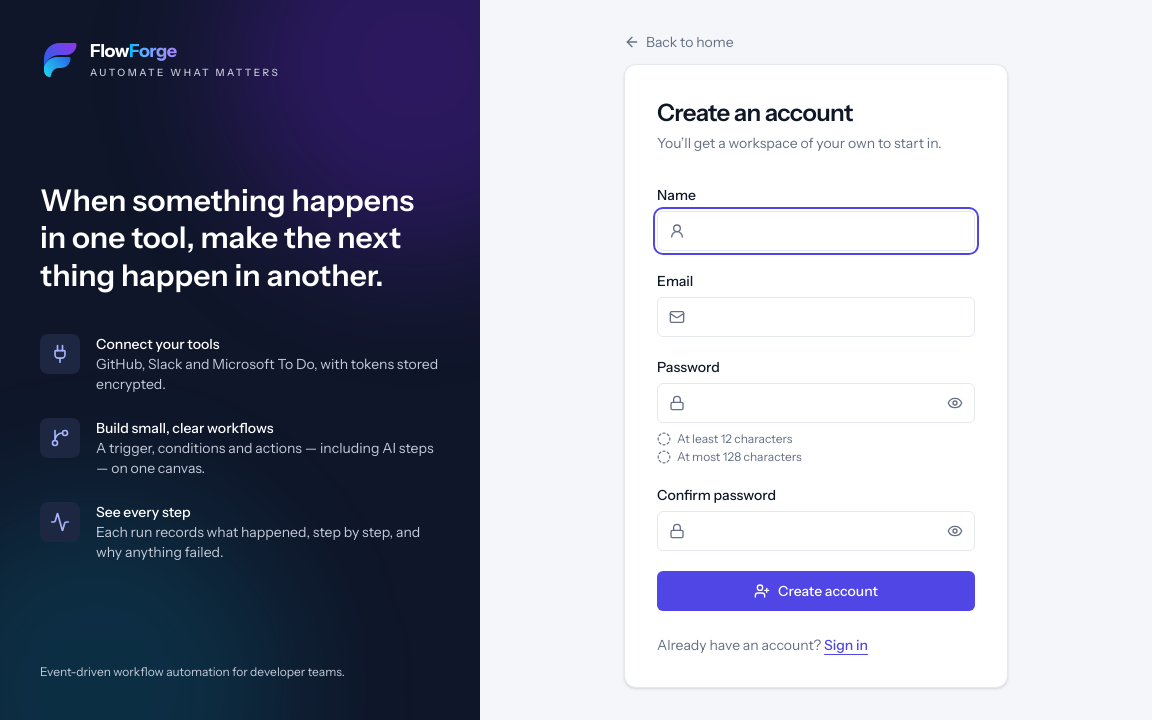
robust sign-in and registration (Part 12) › register: the checklist updates as you type, and the confirmation must match
In the password field labelled "Password": coordinates (816, 403) x1=657 y1=383 x2=975 y2=423, type "correct horse battery"
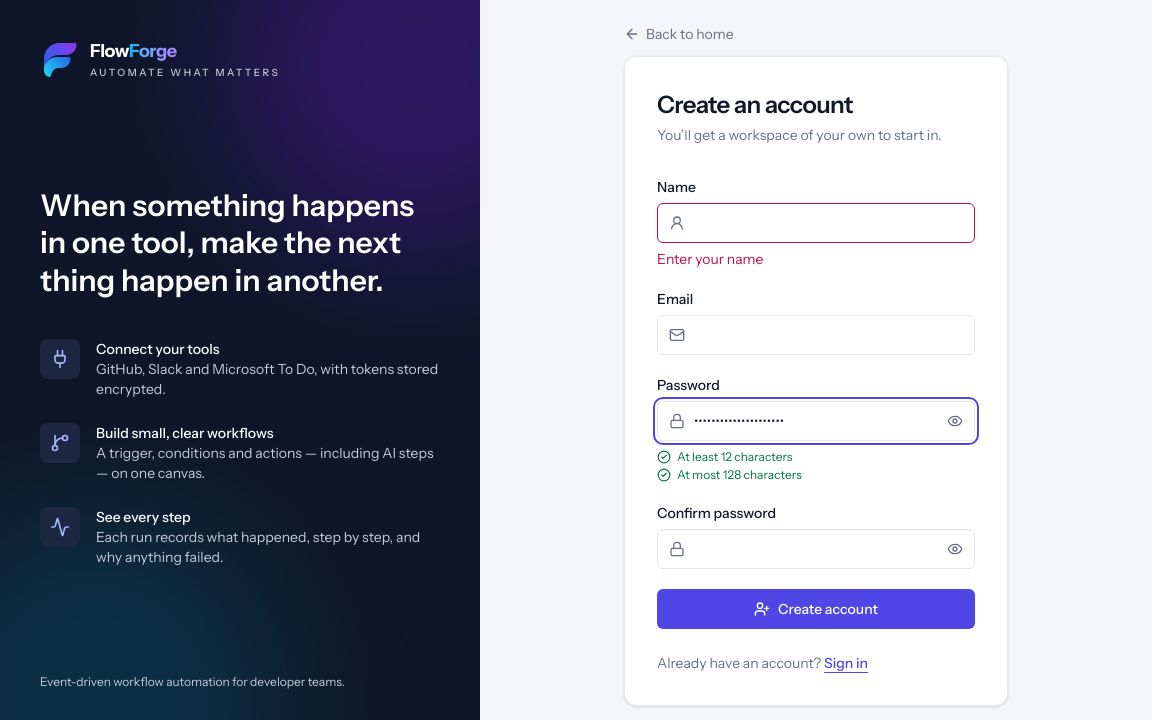
In the field labelled "Name": coordinates (816, 223) x1=657 y1=203 x2=975 y2=243, type "Ada"
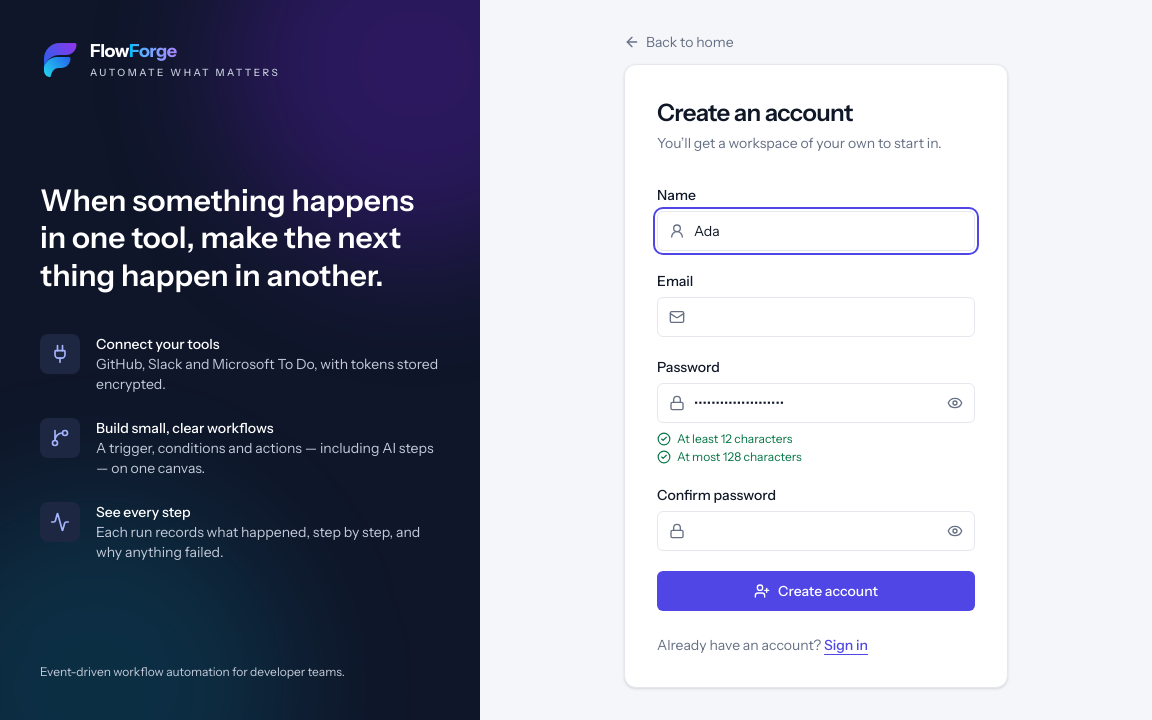
In the field labelled "Email": coordinates (816, 317) x1=657 y1=297 x2=975 y2=337, type "ada@example.test"
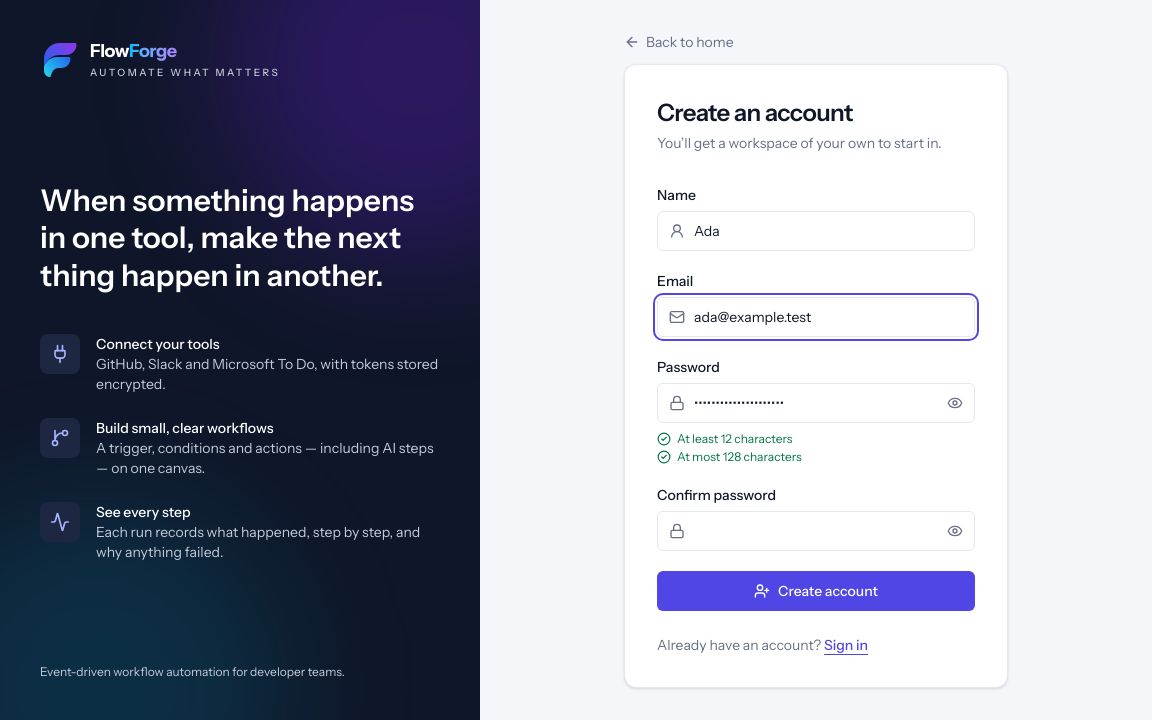
In the password field labelled "Confirm password": coordinates (816, 531) x1=657 y1=511 x2=975 y2=551, type "correct horse batterx"
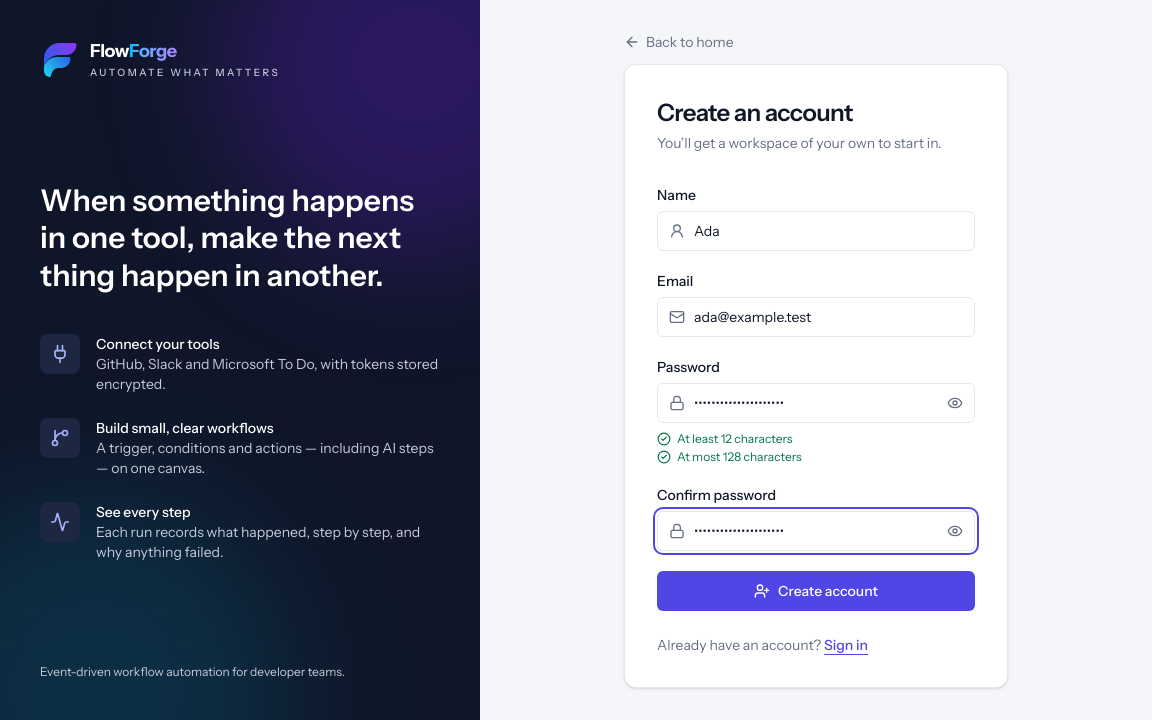
Click the button "Create account": coordinates (816, 591) x1=657 y1=571 x2=975 y2=611
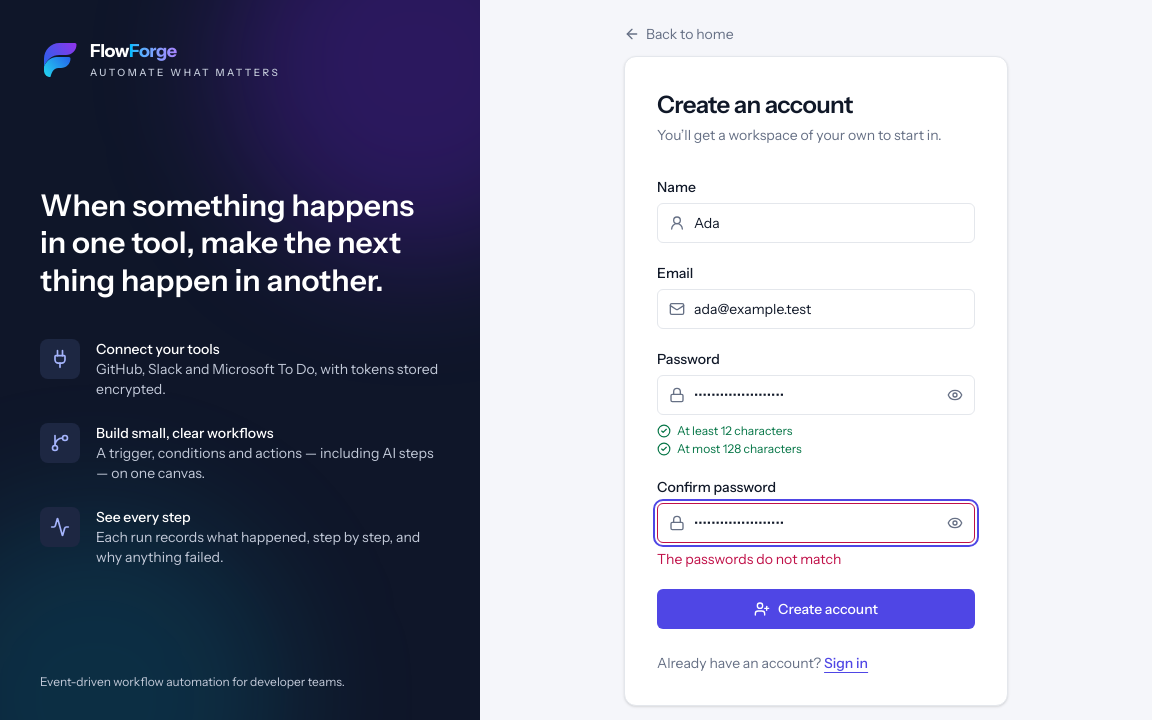
Now the text "The passwords do not match" is shown, box x1=657 y1=550 x2=841 y2=568
